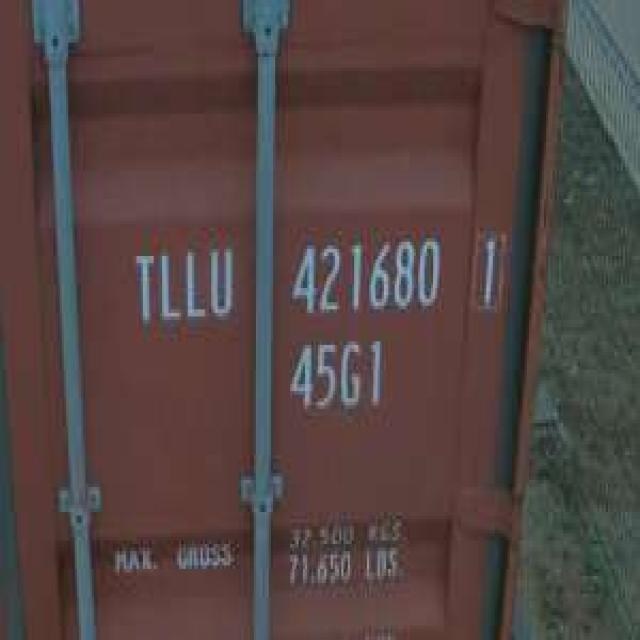dv: (465, 224, 509, 316)
owner: (128, 237, 237, 335)
serial: (289, 226, 447, 320)
size: (283, 326, 389, 419)
